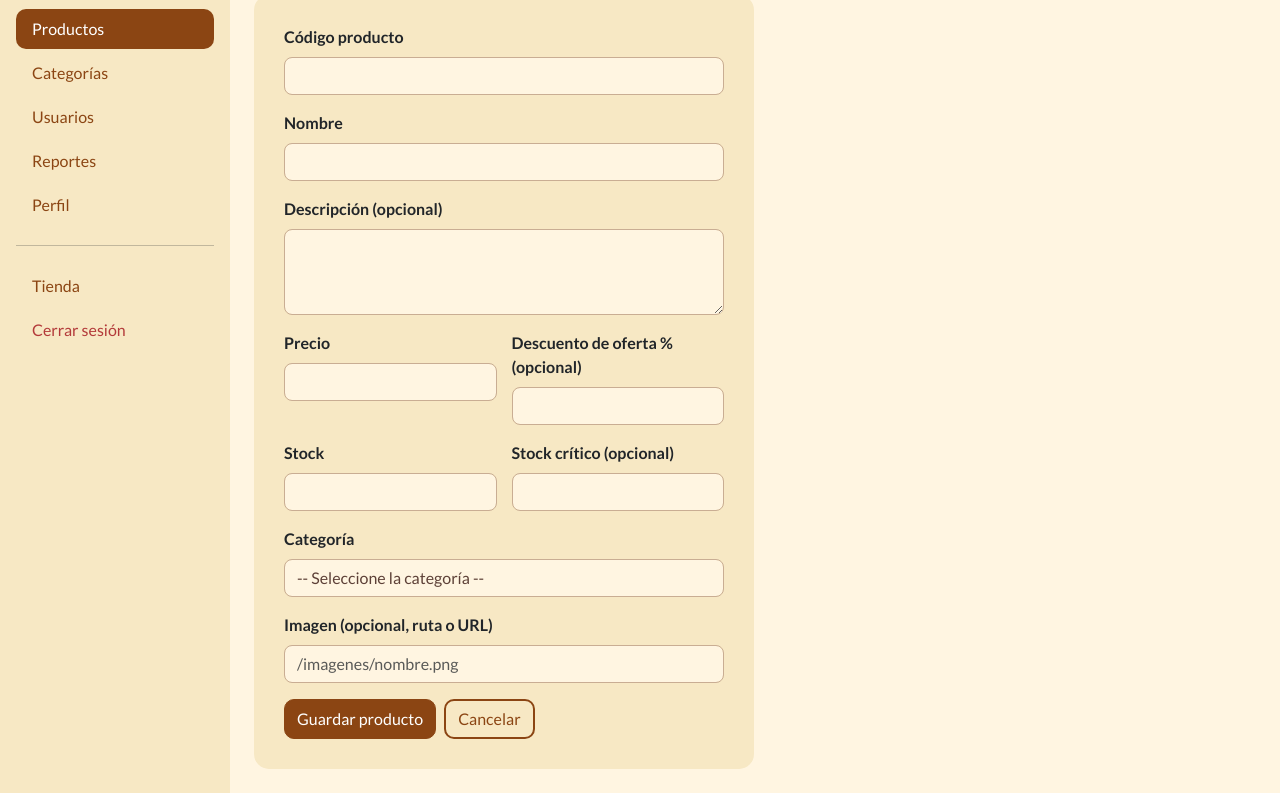
Test: Admin: formulario de producto › muestra errores si se envía vacío
(page scrolled)
Click the button "Guardar producto".
click(360, 719)  # box x1=284 y1=699 x2=436 y2=739
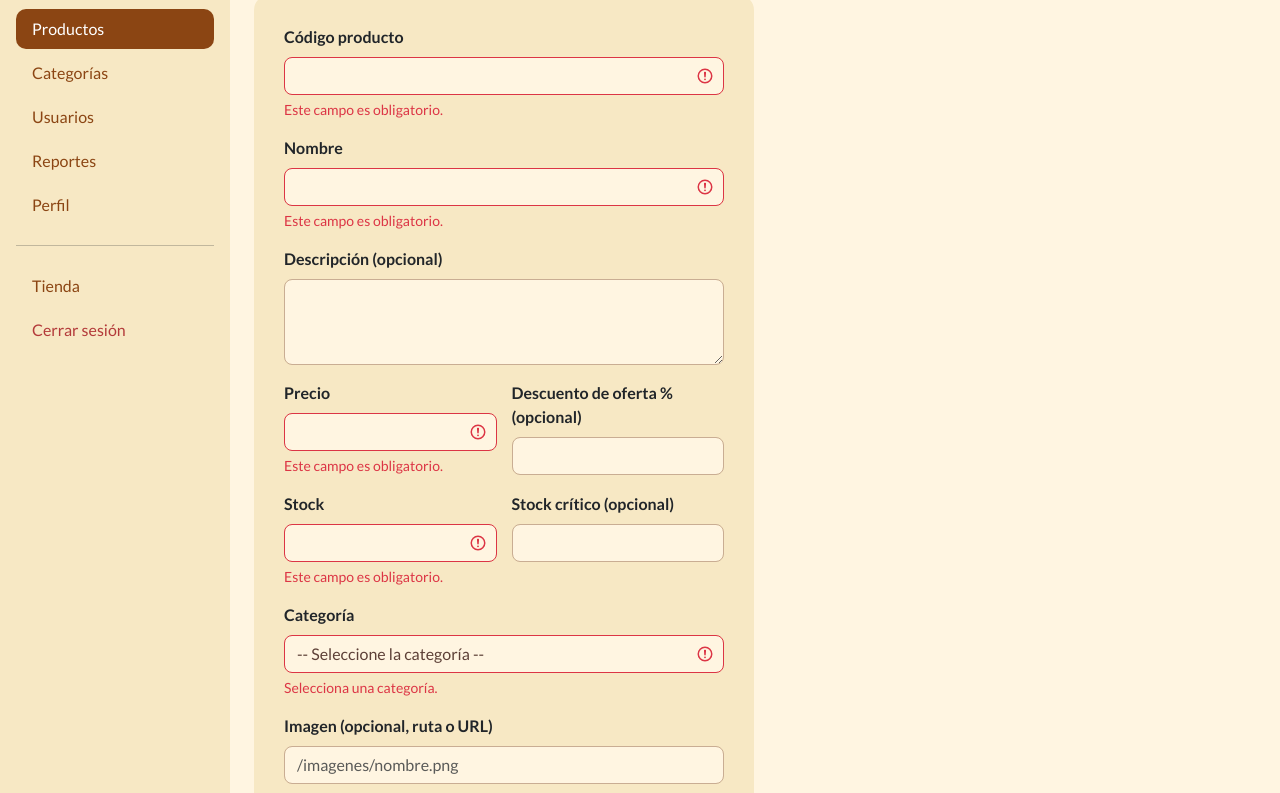
Now the text "Selecciona una categoría." is shown, box x1=284 y1=679 x2=438 y2=696
